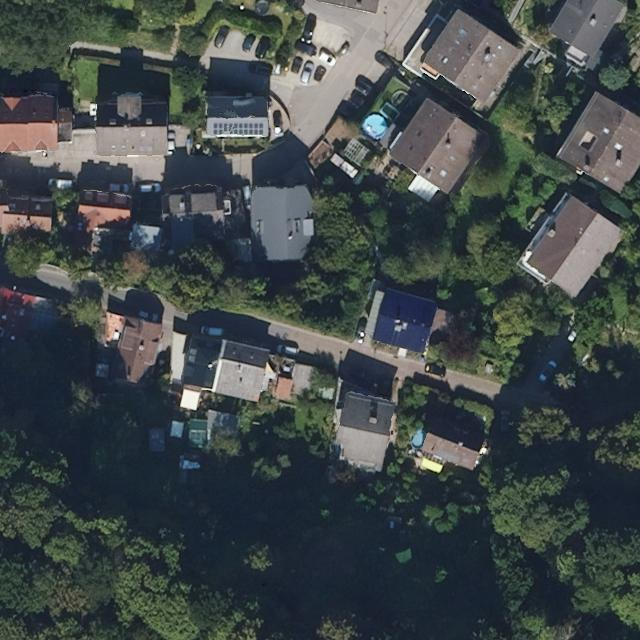PV: (211, 121, 266, 137)
